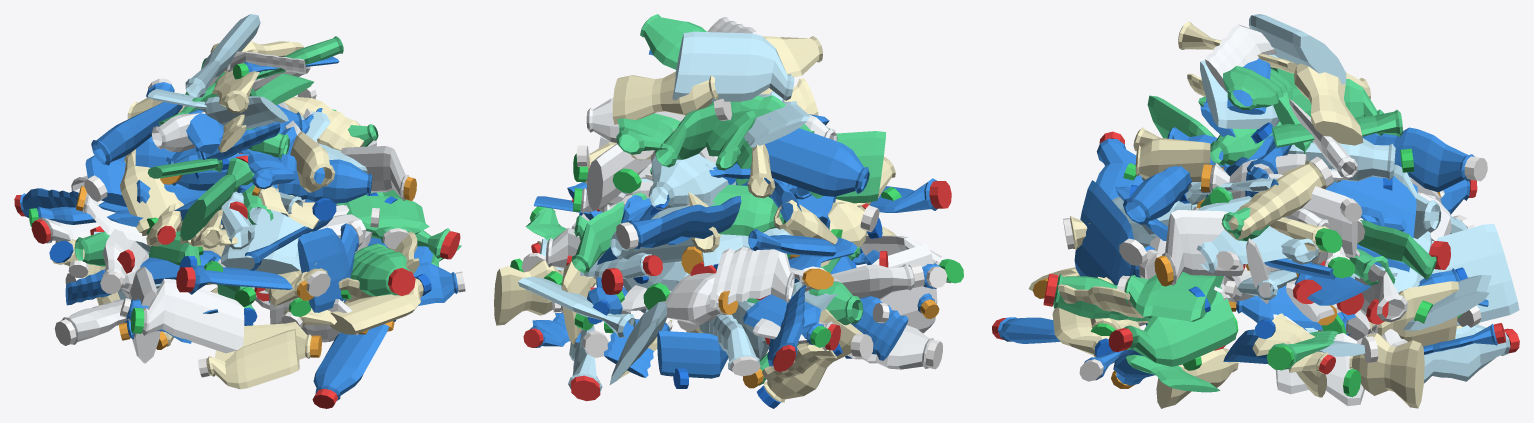
The model's file is Pilon de cajas plastico .fbx.
3 views of the same model, side by side, from view 1: azimuth 30°, elevation 25°; view 2: azimuth 150°, elevation 25°; view 3: azimuth 270°, elevation 25° (orthographic). The views are drawn at different scales.
Parts seen in each view (by area): view 1: Pilon_Botellas_Optimizado.051; view 2: Pilon_Botellas_Optimizado.051; view 3: Pilon_Botellas_Optimizado.051.
Part boxes in pixels (box(x1,y1,x2,y2)): Pilon_Botellas_Optimizado.051: box(14, 14, 465, 408); Pilon_Botellas_Optimizado.051: box(494, 14, 963, 408); Pilon_Botellas_Optimizado.051: box(992, 14, 1519, 408).
Size of the model in its own units: 396 by 306 by 426.
